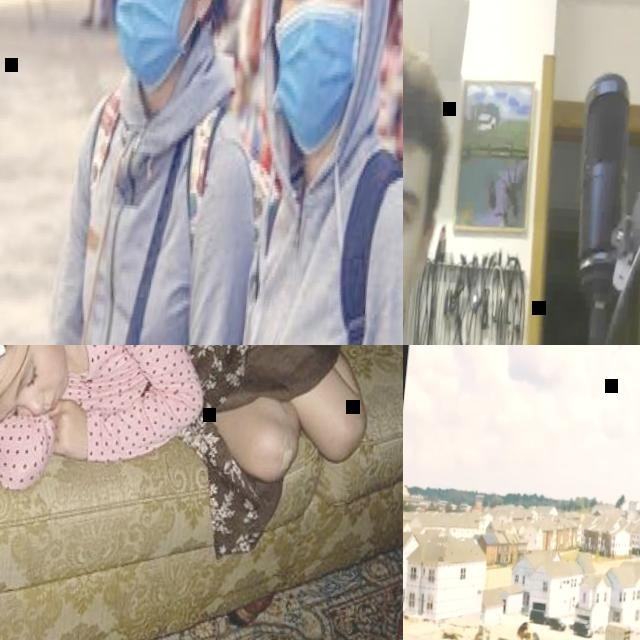Hardhat: (516, 614, 530, 638)
Mask: (264, 0, 366, 156), (108, 0, 192, 96)
NO-Hardhat: (403, 43, 451, 163)
NO-Mask: (38, 346, 72, 415)
NO-Safety Vest: (76, 100, 236, 345), (244, 135, 403, 345), (61, 345, 182, 421), (519, 630, 539, 640)
Person: (38, 0, 294, 345), (0, 345, 383, 520), (231, 0, 403, 345), (403, 32, 514, 345), (511, 615, 549, 640)
machinery: (469, 620, 493, 640)
vehicle: (573, 619, 595, 639), (528, 608, 551, 626), (548, 616, 567, 632)
